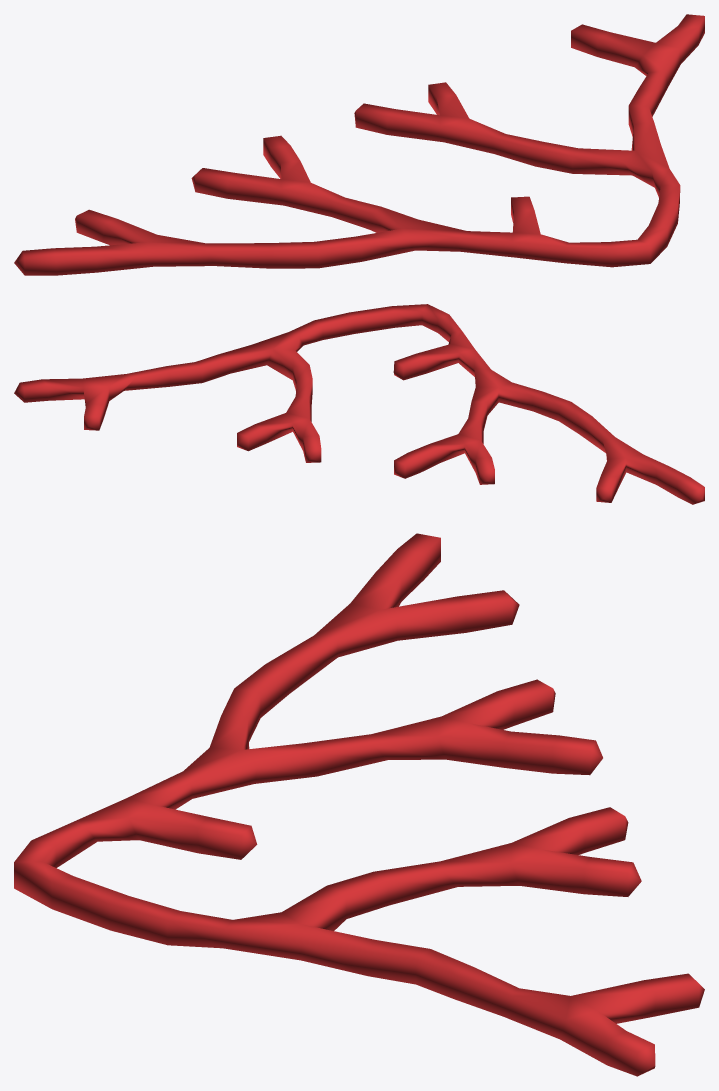
The model's file is coral02c.fbx.
3 renders of one model, top to bottom at view 1: azimuth 30°, elevation 25°; view 2: azimuth 150°, elevation 25°; view 3: azimuth 270°, elevation 25°, orthographic. The views are drawn at different scales.
Parts seen in each view (by area): view 1: Coral02c; view 2: Coral02c; view 3: Coral02c.
Boxes of the visible parts, x1,y1,x2,y2 form: Coral02c: (14, 14, 704, 275); Coral02c: (14, 304, 704, 504); Coral02c: (14, 533, 704, 1076).
Size of the model in its own units: 334 by 7.91 by 187.
